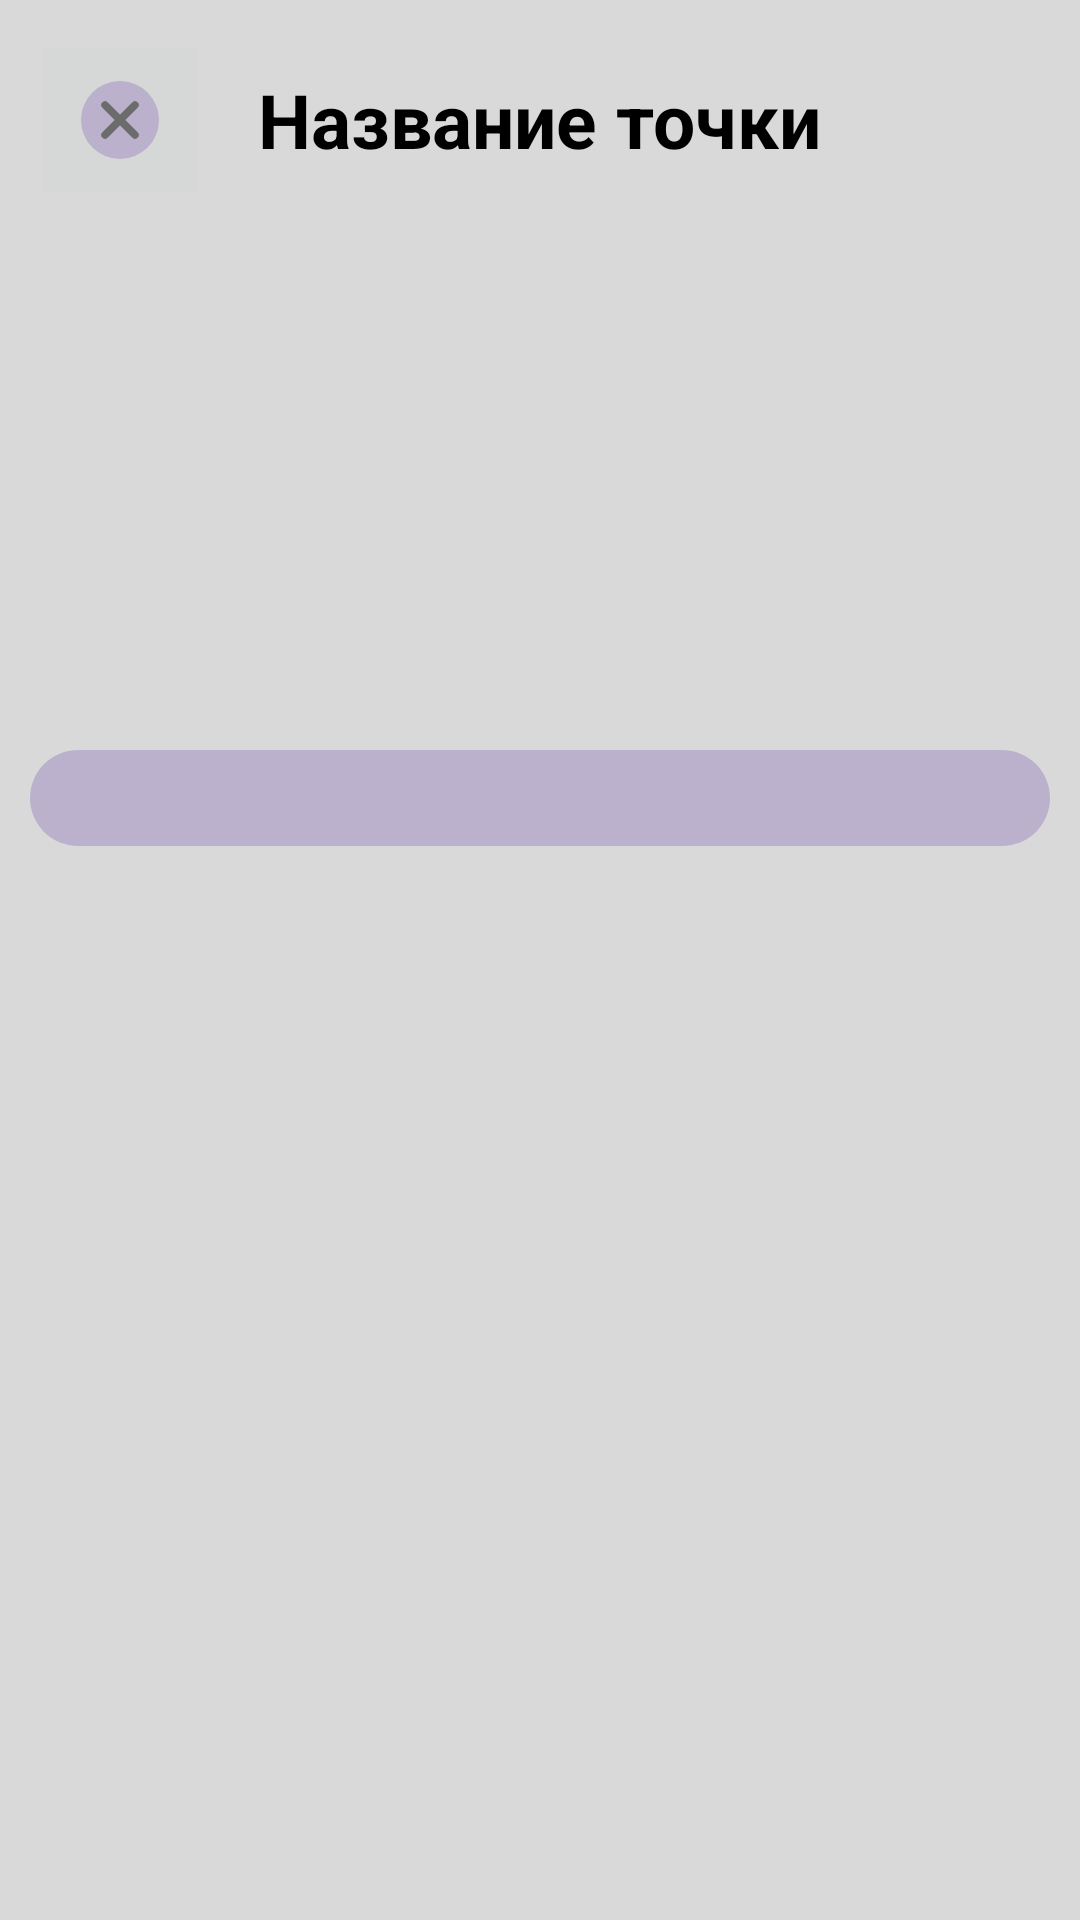

Icon click points for this 1080w x 1920h phone screenshot, format (x,y):
criss cross: (120,120)
